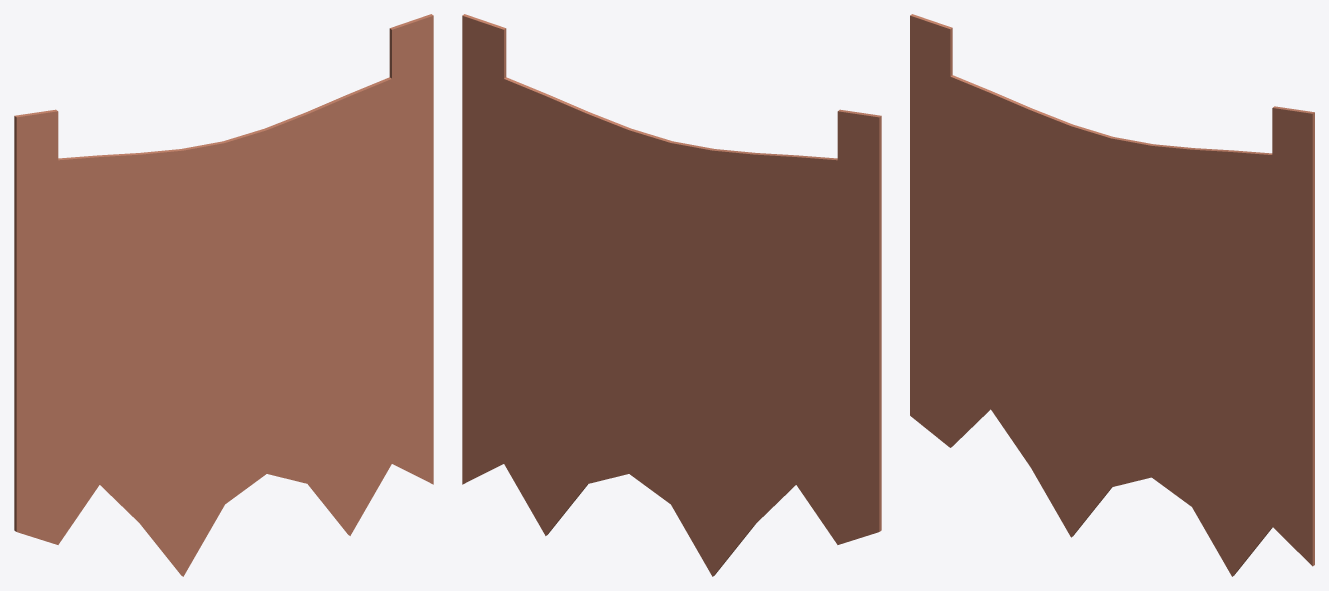
Rendered from Flag.fbx.
3 renders of one model, left to right at view 1: azimuth 30°, elevation 25°; view 2: azimuth 150°, elevation 25°; view 3: azimuth 330°, elevation 25°, orthographic. The views are drawn at different scales.
Visible parts, largest first — view 1: Cylinder.001; view 2: Cylinder.001; view 3: Cylinder.001.
Part boxes in pixels (<box>): Cylinder.001: <box>14,14,433,576</box>; Cylinder.001: <box>462,14,881,576</box>; Cylinder.001: <box>910,14,1314,576</box>.
Size of the model in its own units: 703 by 805 by 6.55.
